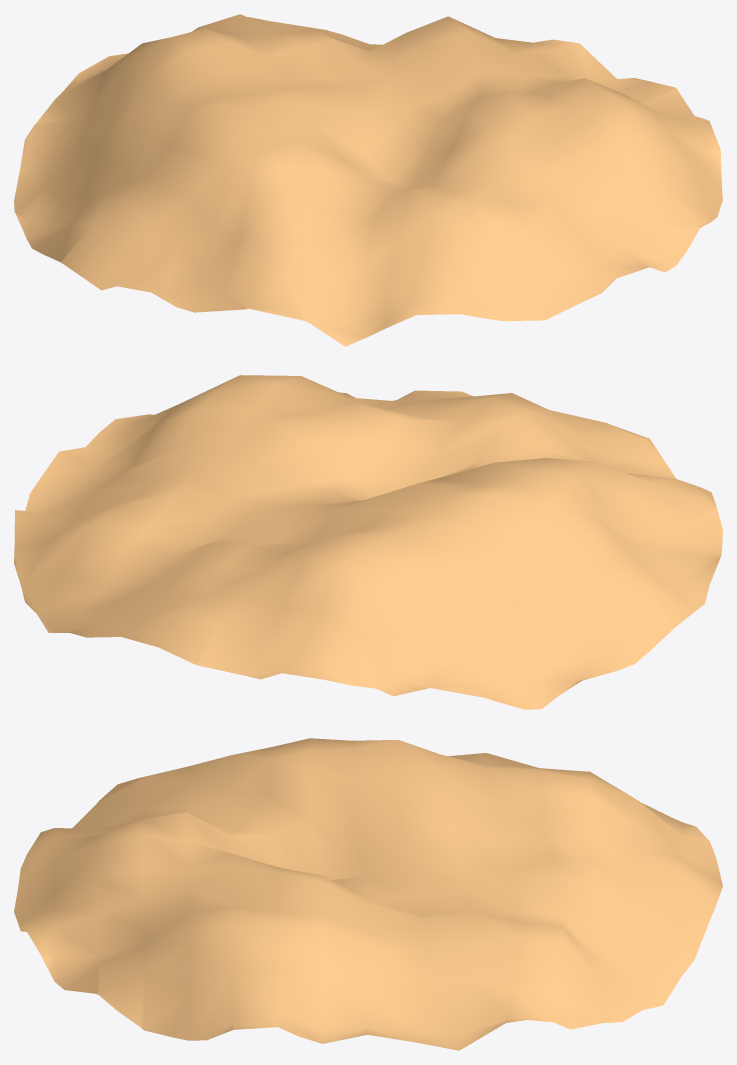
The model's file is SM_Flour.fbx.
3 renders of one model, top to bottom at view 1: azimuth 30°, elevation 25°; view 2: azimuth 150°, elevation 25°; view 3: azimuth 270°, elevation 25°, orthographic.
Visible parts, largest first — view 1: Flour; view 2: Flour; view 3: Flour.
Boxes of the visible parts, <box> form: Flour: <box>14,14,722,346</box>; Flour: <box>14,375,722,709</box>; Flour: <box>14,738,722,1050</box>.
Size of the model in its own units: 98.58 by 19.91 by 98.96.
